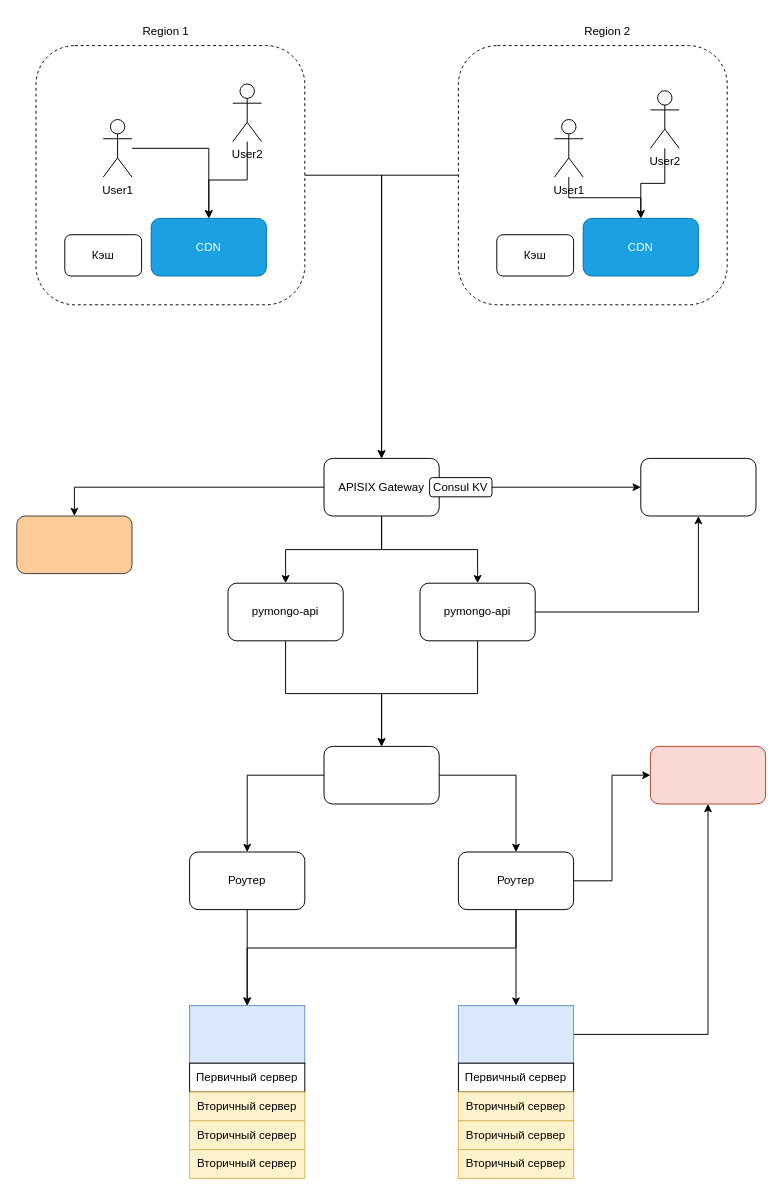
The diagram is 782 pixels wide and 1195 high, and some of its shapes have lost their labels. Here are the shapes that lost their labels. From the top down, the centre of each, then its label:
At [698,486]: "Consul".
At [74,544]: "redis".
At [381,774]: "Драйвер".
At [707,774]: "Конфигурационный сервис".
At [247,1034]: "Шард1".
At [515,1034]: "Шард2".
